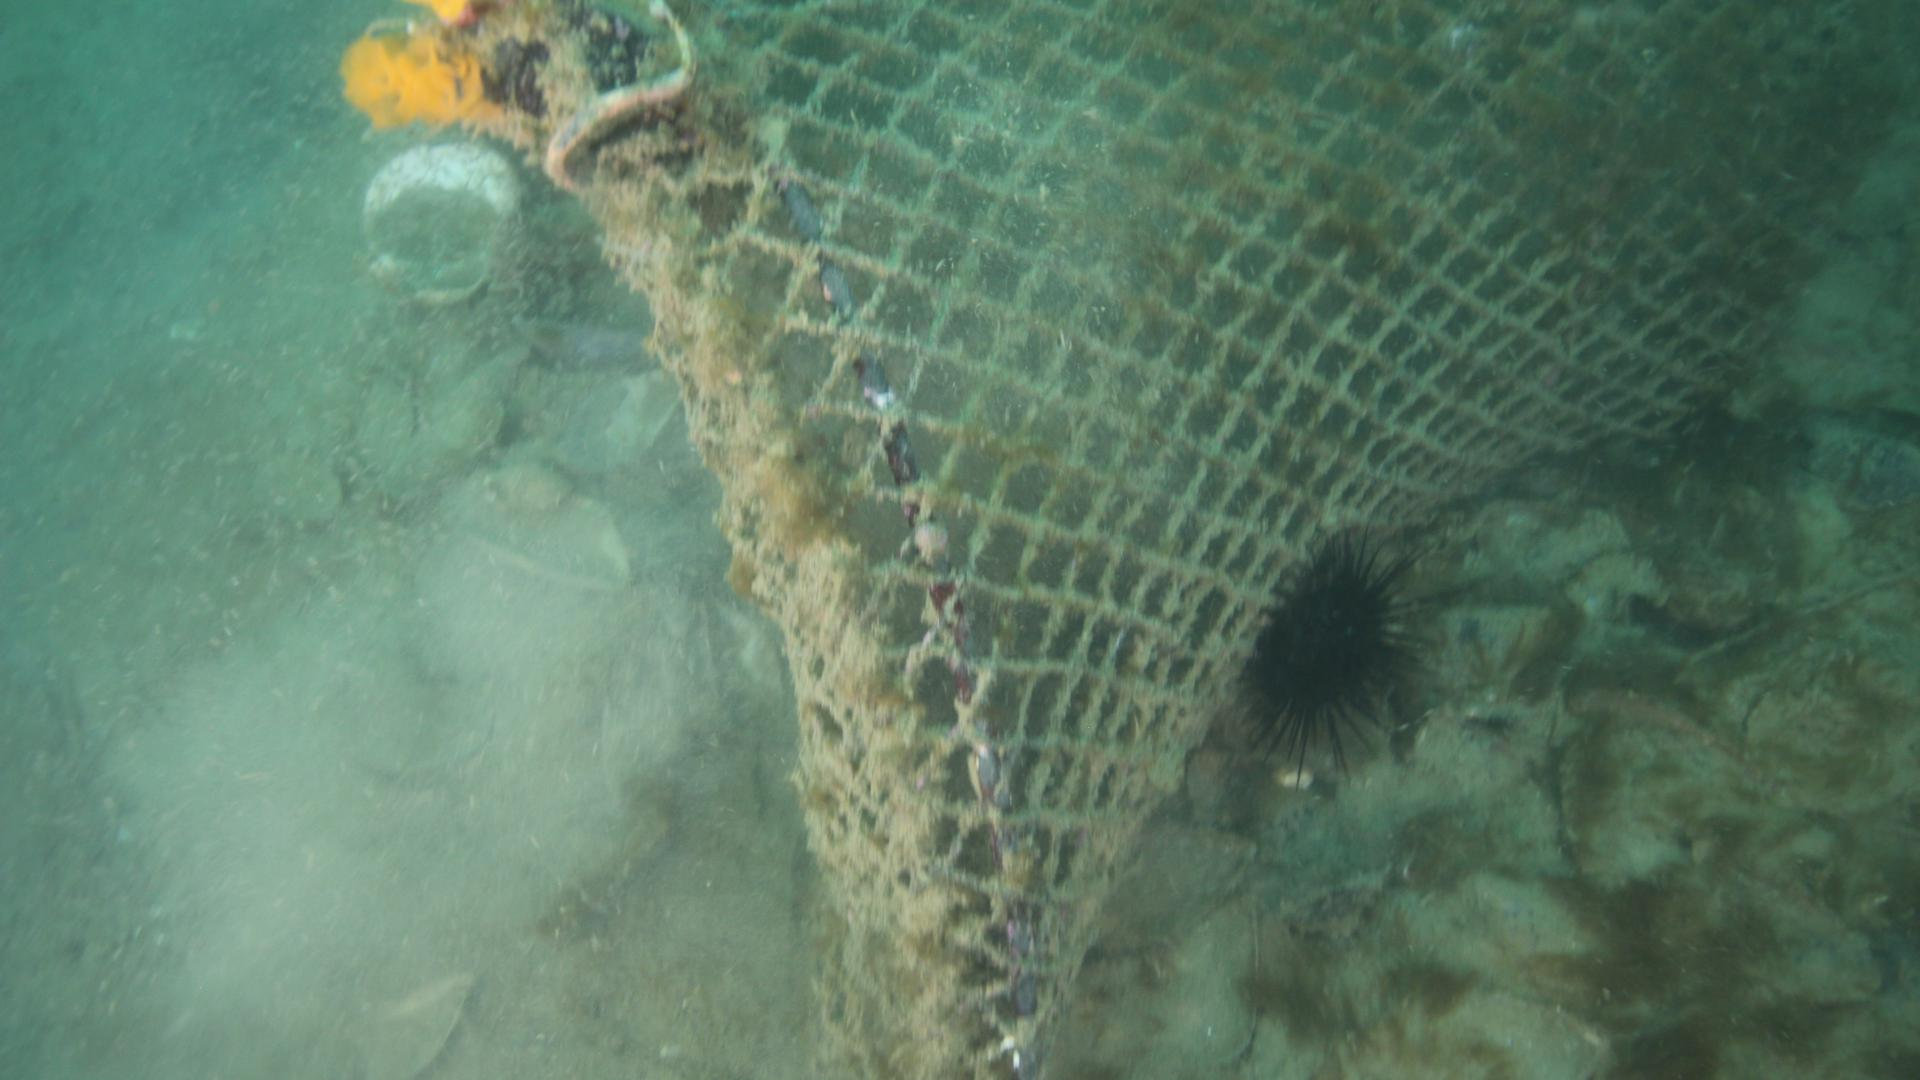spring fish trap: (455, 0, 1920, 1080)
